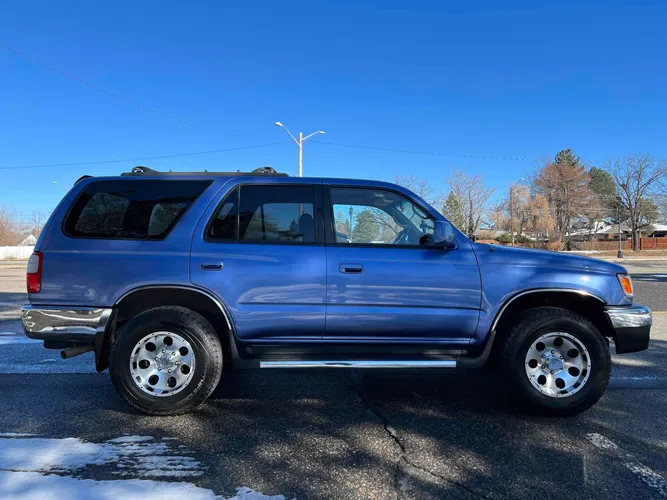car: (18, 163, 658, 417)
